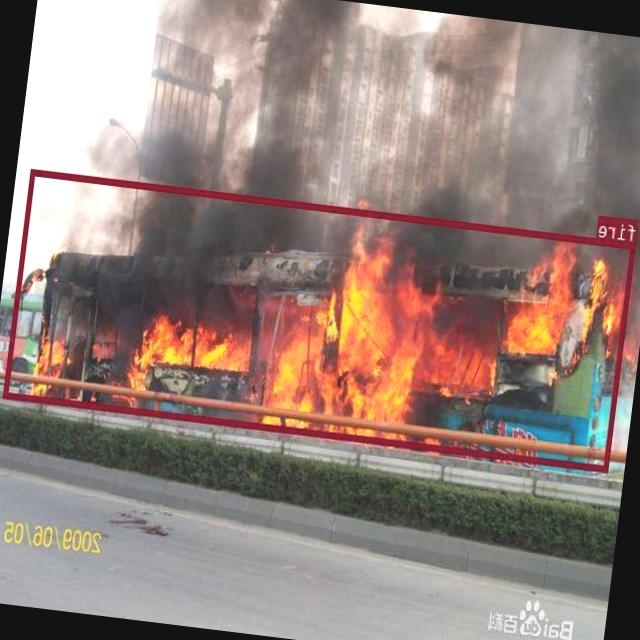fire: (3, 168, 636, 470)
